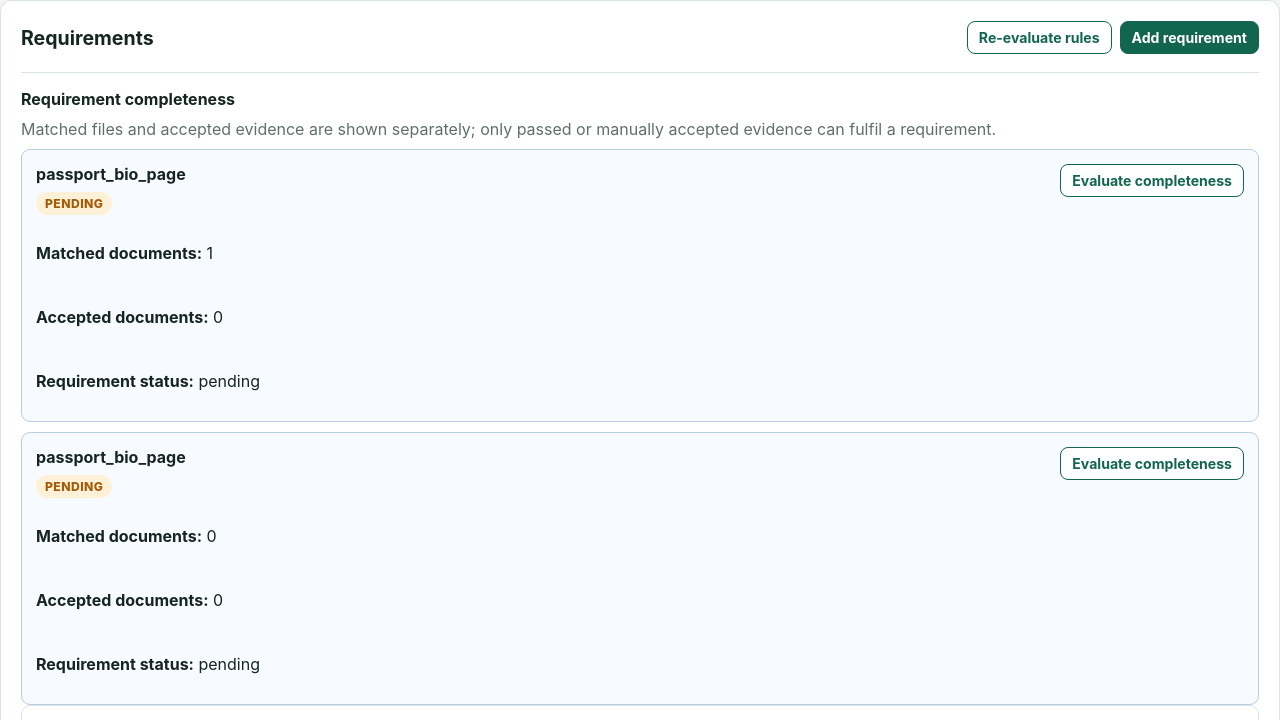
Test: distinguishes automatic and manual requirements and re-evaluates through the API
Click the button "Re-evaluate rules".
click(1039, 38)  # box top-left (967, 21), bottom-right (1112, 54)
(page scrolled)
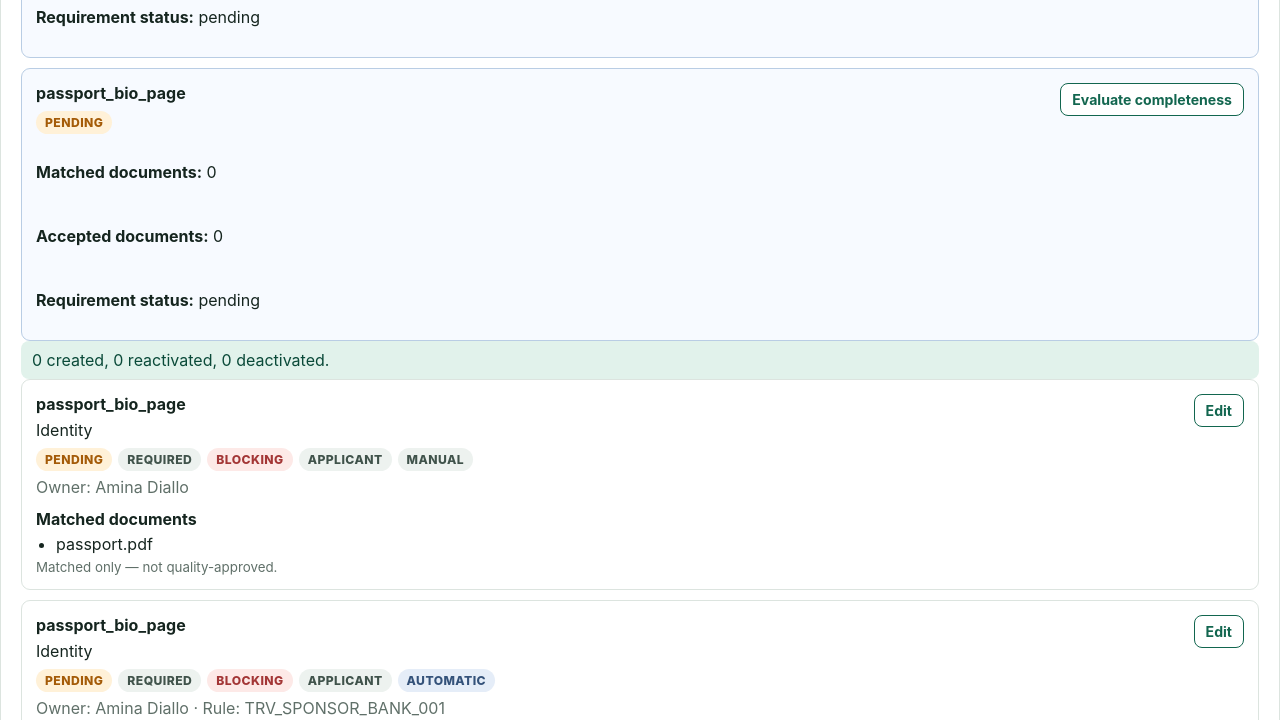
Expected: the message shows "0 created, 0 reactivated, 0 deactivated", top-left (32, 350), bottom-right (329, 370)
